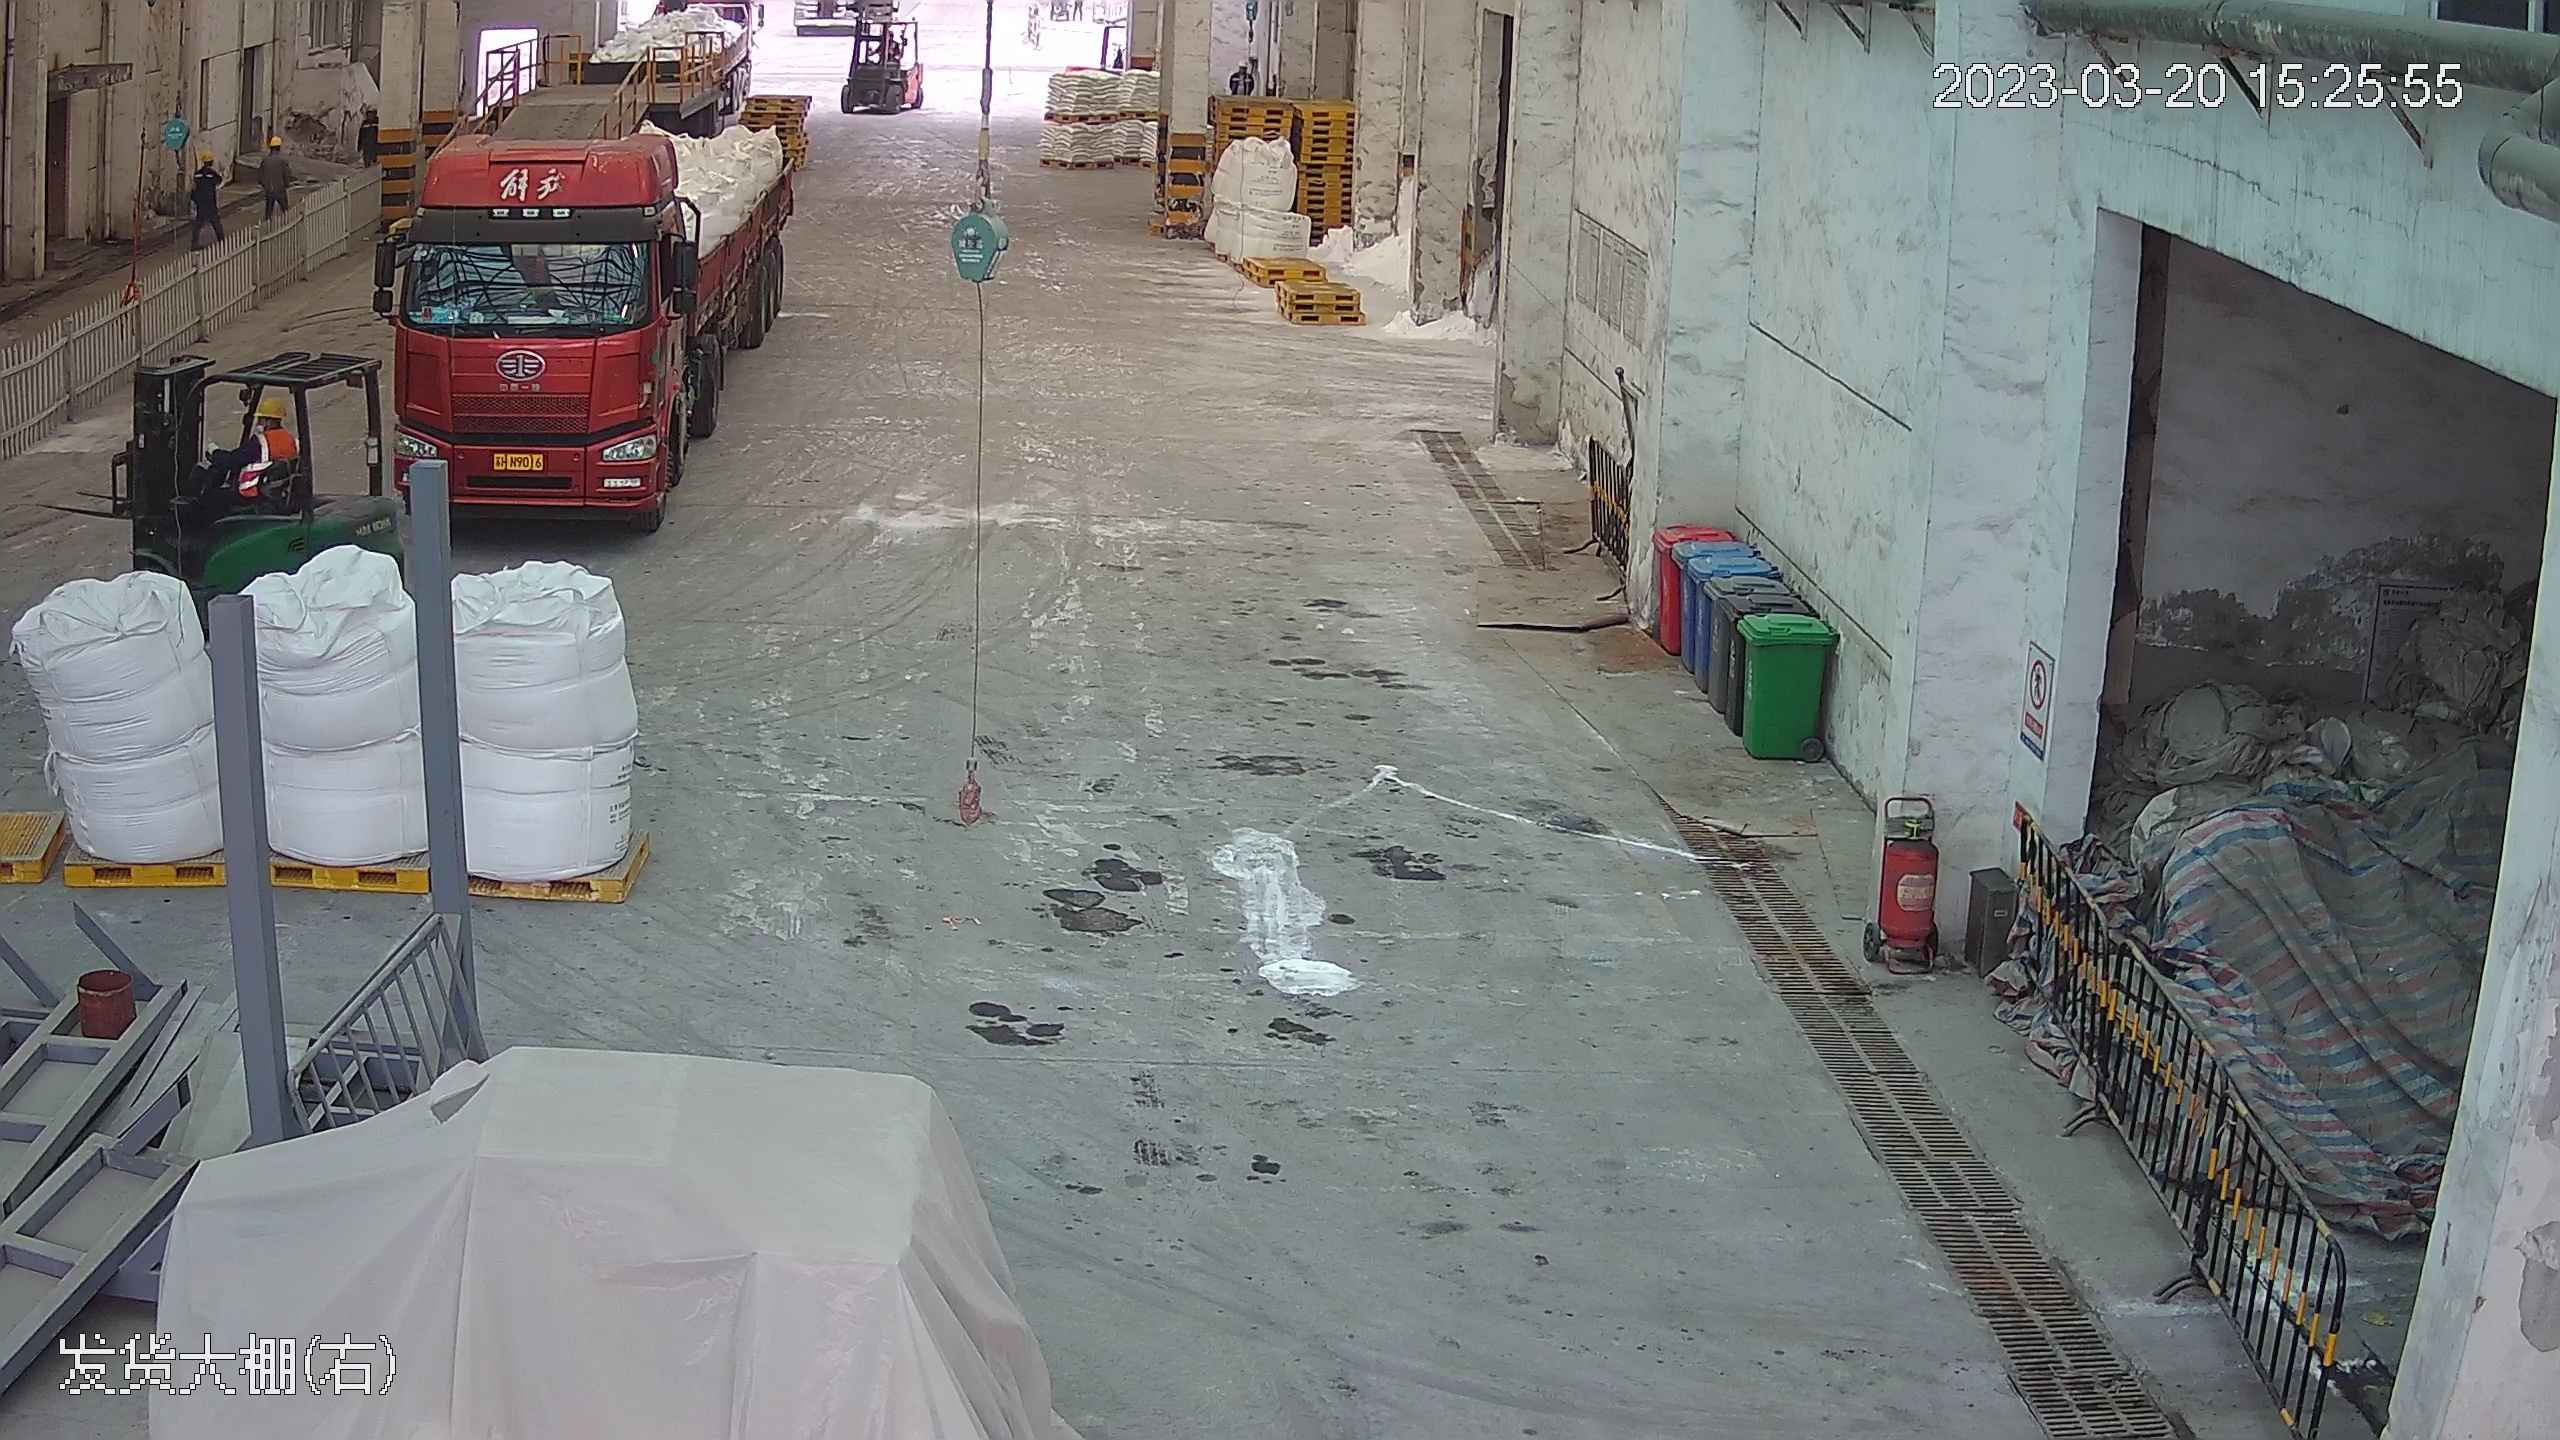head: (241, 391, 297, 459), (263, 134, 294, 170), (191, 149, 216, 182)
helmet: (254, 392, 287, 416), (266, 138, 284, 149), (200, 151, 216, 166)
people: (257, 136, 298, 225), (189, 148, 220, 241)
truck: (377, 62, 808, 522)
